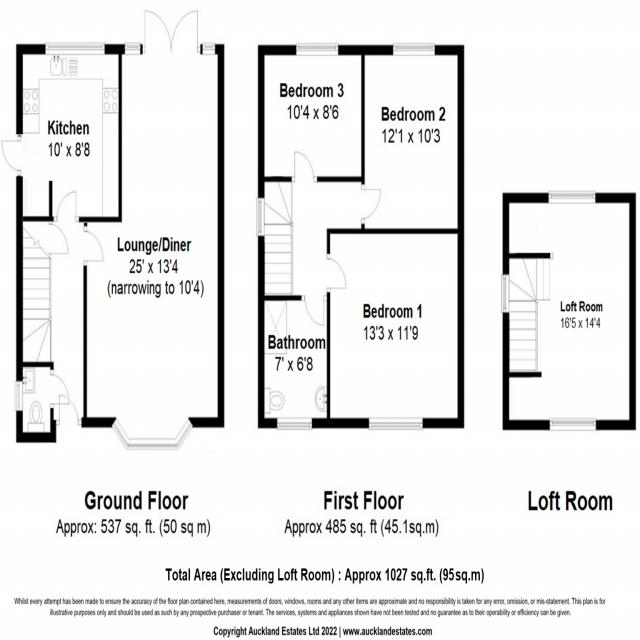DOOR: (301, 294, 327, 330), (0, 134, 22, 176), (55, 391, 81, 426), (327, 254, 350, 293), (361, 184, 384, 223), (54, 187, 79, 222), (292, 147, 317, 182), (84, 225, 105, 266), (50, 369, 71, 408)
DOUBLE DOOR: (142, 3, 202, 59)
ROOM: (82, 0, 223, 459), (503, 193, 636, 430), (326, 227, 465, 428), (0, 43, 122, 223), (361, 44, 465, 235), (258, 44, 365, 181)
WINDOW: (109, 413, 196, 454), (367, 412, 425, 434), (44, 40, 106, 57), (294, 38, 340, 60), (389, 40, 437, 61), (548, 414, 598, 434), (548, 188, 597, 206), (273, 414, 314, 435), (255, 191, 267, 236), (500, 270, 511, 314), (13, 378, 24, 413), (124, 40, 141, 57), (202, 40, 216, 57)
